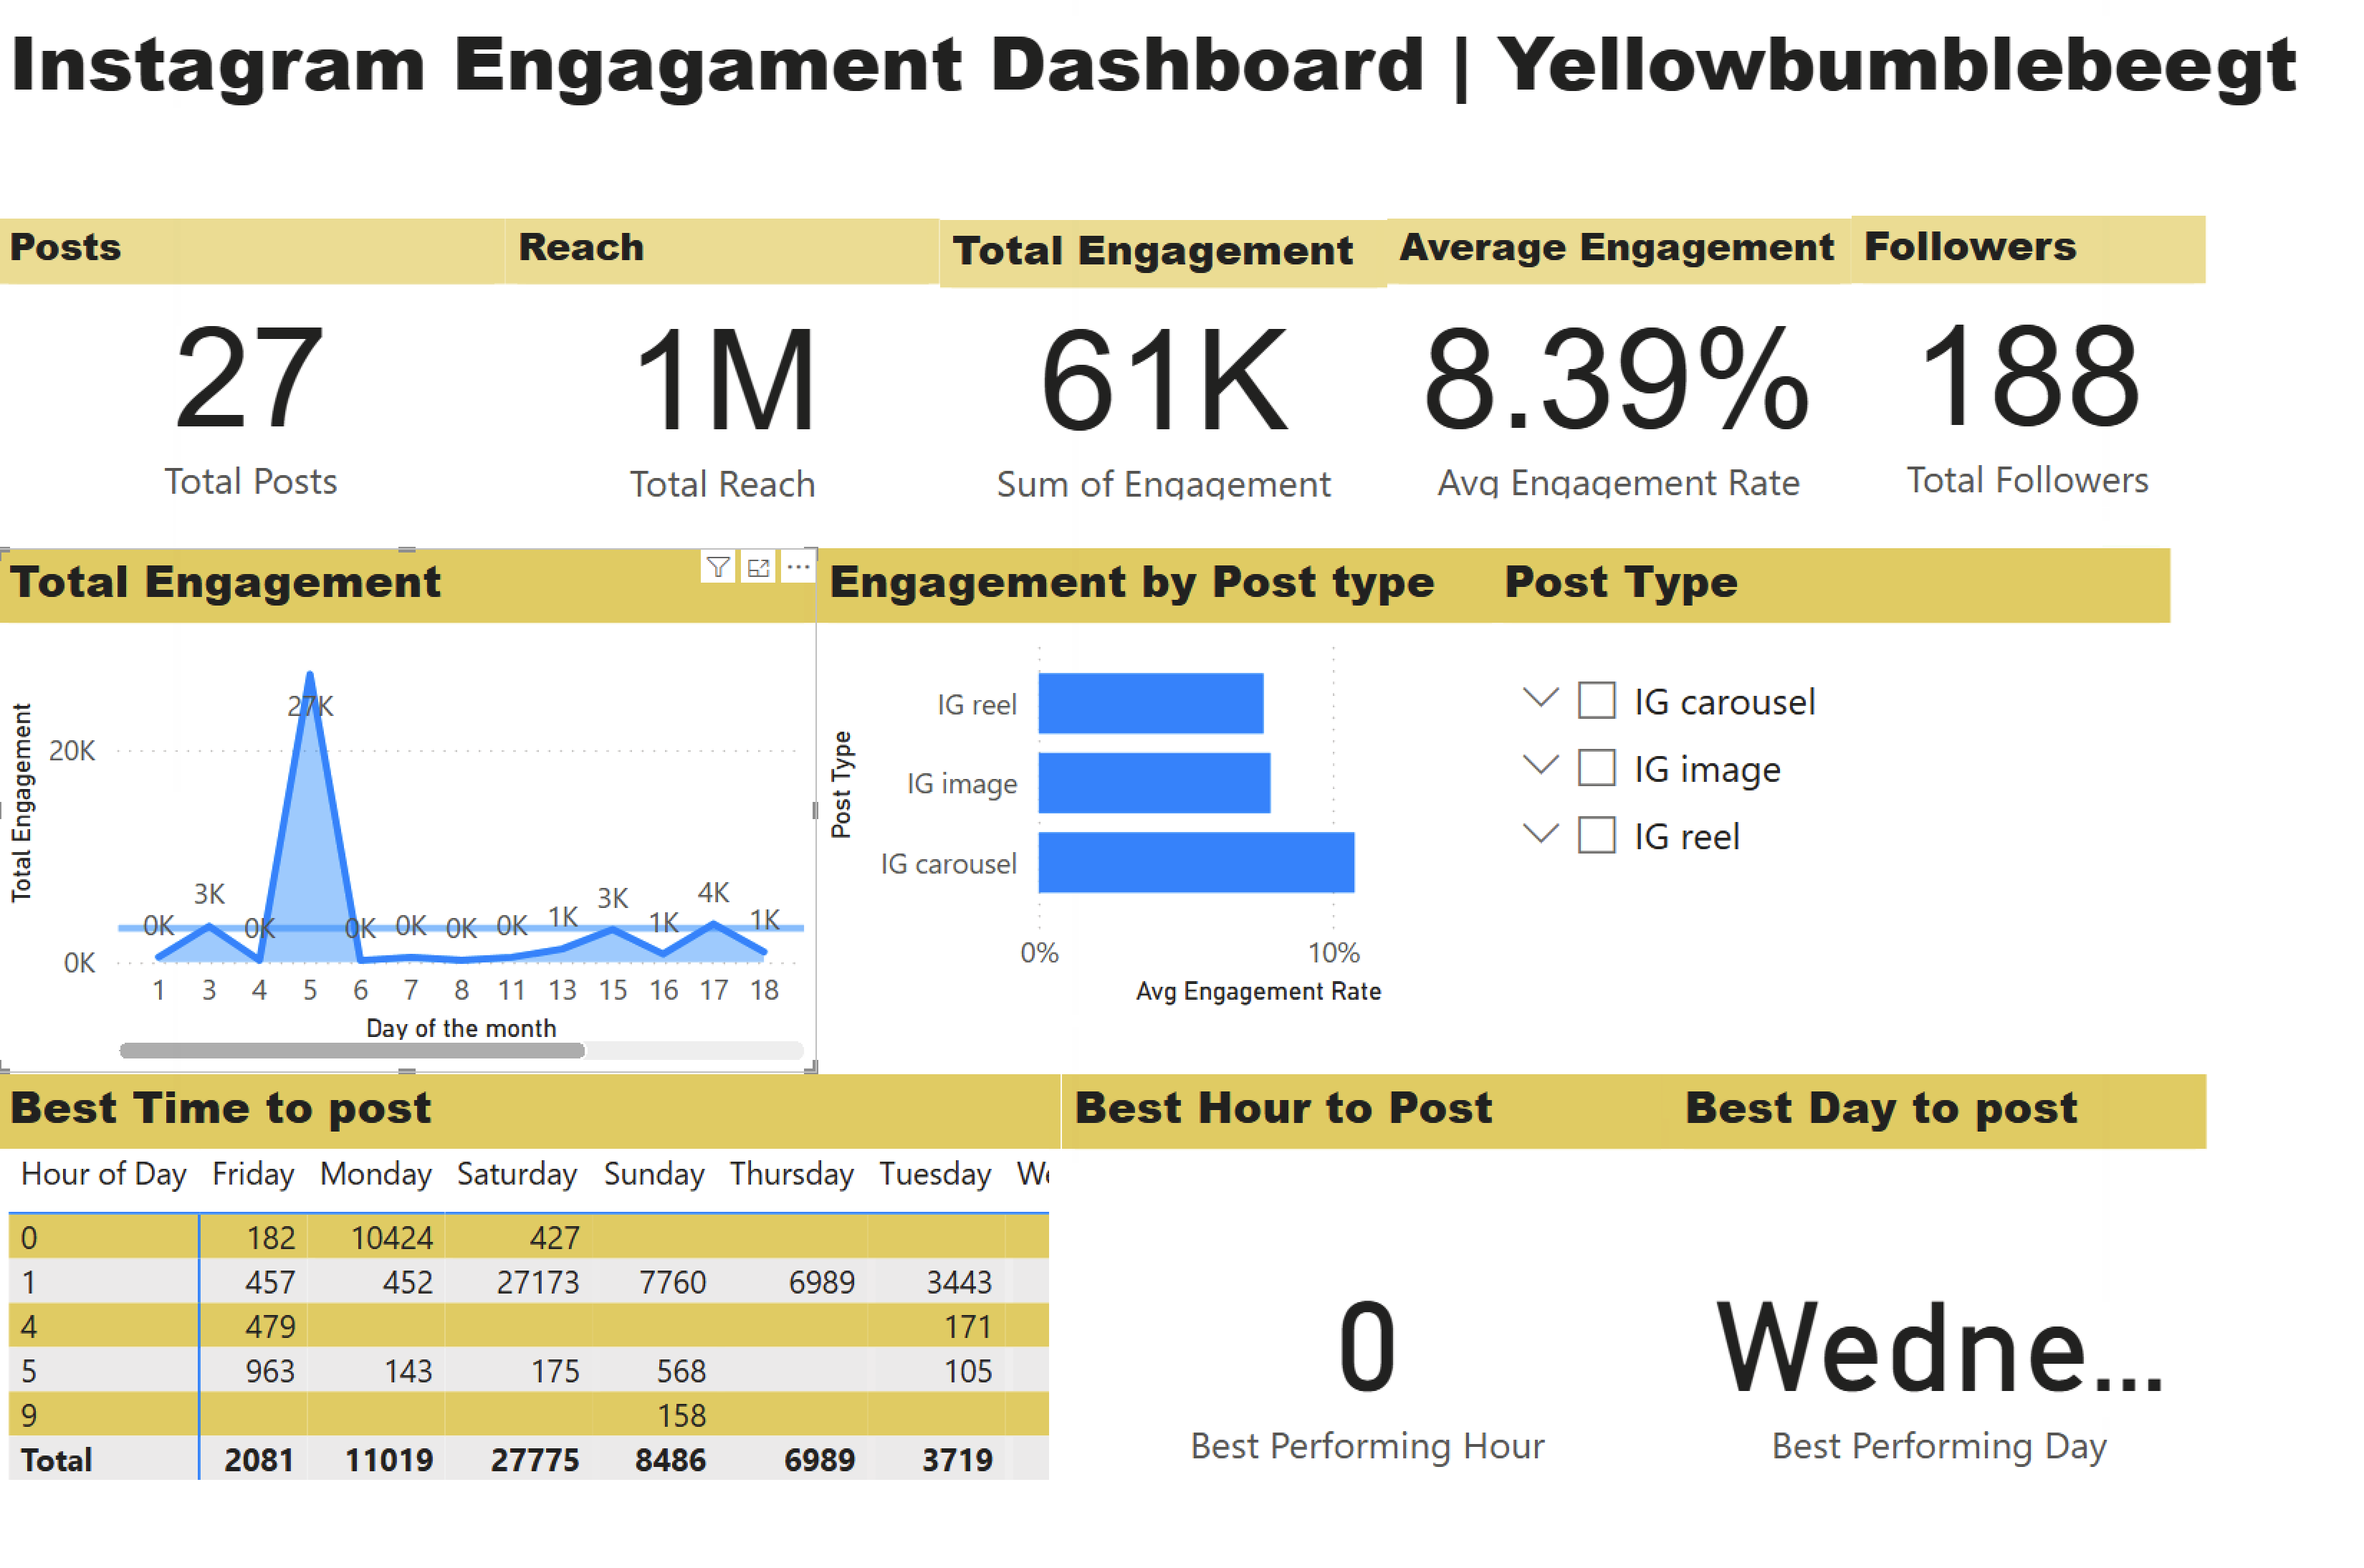

Layout of this report page (visuals, bound fields, positions):
{"tool":"powerbi","page":{"name":"Page 1","canvas":[1280,720],"ordinal":0},"visuals":[{"type":"card","title":"Reach","fields":{"Values":["Bumblebee engagement.Total Reach"]},"box":[218,125.5,186.3,126.8],"z":0},{"type":"card","title":"Total Engagement","fields":{"Values":["Sum(Bumblebee engagement.Engagement)"]},"box":[404.3,126.1,191.9,124.7],"z":1000},{"type":"card","title":"Average Engagement","fields":{"Values":["Bumblebee engagement.Avg Engagement Rate"]},"box":[595.7,125.5,199.5,125.5],"z":2000},{"type":"card","title":"Posts","fields":{"Values":["Bumblebee engagement.Total Posts"]},"box":[0,125.5,218,124.2],"z":3000},{"type":"card","title":"Followers","fields":{"Values":["Bumblebee engagement.Total Followers"]},"box":[795.2,124.2,151.9,125.5],"z":4000},{"type":"lineChart","title":"Total Engagement ","fields":{"Category":["Bumblebee engagement.Publish Time.Variation.Date Hierarchy.Day"],"Y":["Bumblebee engagement.Total Engagement"]},"box":[0,266.8,351.4,224.6],"z":5000},{"type":"clusteredBarChart","title":"Engagement by Post type","fields":{"Category":["Bumblebee engagement.Post Type"],"Y":["Bumblebee engagement.Avg Engagement Rate"]},"box":[351.4,266.8,301.2,200.8],"z":6000},{"type":"slicer","title":"Post Type ","fields":{"Values":["Bumblebee engagement.Post Type","Bumblebee engagement.Day of the week"]},"box":[640.7,266.8,290.6,200.8],"z":7000},{"type":"actionButton","box":[0,0,100,40],"z":8000},{"type":"pivotTable","title":"Best Time to  post ","fields":{"Rows":["Bumblebee engagement.Hour of Day"],"Values":["Bumblebee engagement.Total Engagement"],"Columns":["Bumblebee engagement.Day of the week"]},"box":[0,492,456.4,227.5],"z":9000},{"type":"textbox","box":[0,30.4,1208.7,77.9],"z":10000},{"type":"card","title":"Best Hour to Post ","fields":{"Values":["Bumblebee engagement.Best Performing Hour"]},"box":[456.4,492,261.8,213.8],"z":10001},{"type":"card","title":"Best Day to post ","fields":{"Values":["Bumblebee engagement.Best Performing Day"]},"box":[718.1,492,228.9,213.8],"z":10002}]}

Visuals, with their boxes on the page's 1280x720 design canvas (x1, y1, x2, y2). These are canvas units, not pixel positions in the 2364x1568 screenshot, which may show the page scaled, cropped or inside an application window:
"Reach" card: <box>218,126,404,252</box>
"Total Engagement" card: <box>404,126,596,251</box>
"Average Engagement" card: <box>596,126,795,251</box>
"Posts" card: <box>0,126,218,250</box>
"Followers" card: <box>795,124,947,250</box>
"Total Engagement " lineChart: <box>0,267,351,491</box>
"Engagement by Post type" clusteredBarChart: <box>351,267,653,468</box>
"Post Type " slicer: <box>641,267,931,468</box>
actionButton: <box>0,0,100,40</box>
"Best Time to  post " pivotTable: <box>0,492,456,720</box>
textbox: <box>0,30,1209,108</box>
"Best Hour to Post " card: <box>456,492,718,706</box>
"Best Day to post " card: <box>718,492,947,706</box>
